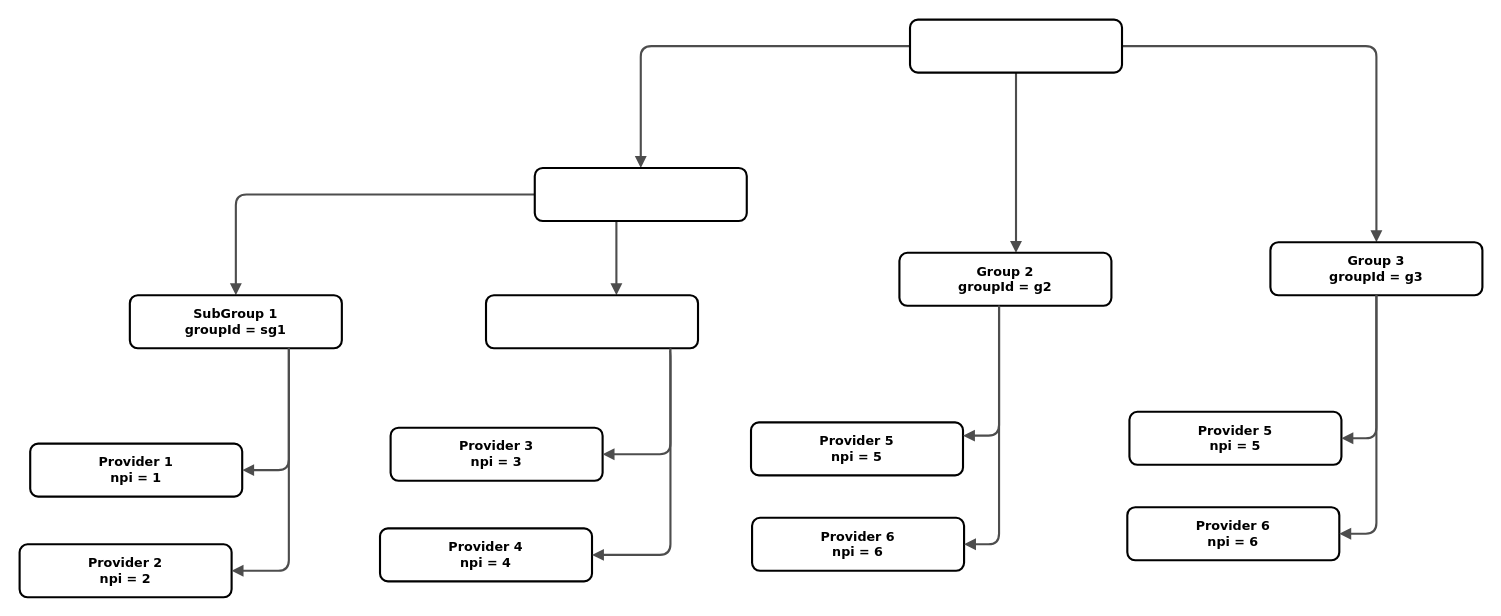
This 1501x616 diagram has some shape labels left out. The box of each missing label's shape, as (x1, y1, x2, y2) in pixels:
Company companyId = 1: (908, 18, 1123, 73)
Group 1 groupId = g1: (533, 166, 747, 222)
SubGroup 2 groupId = sg2: (484, 294, 699, 349)
